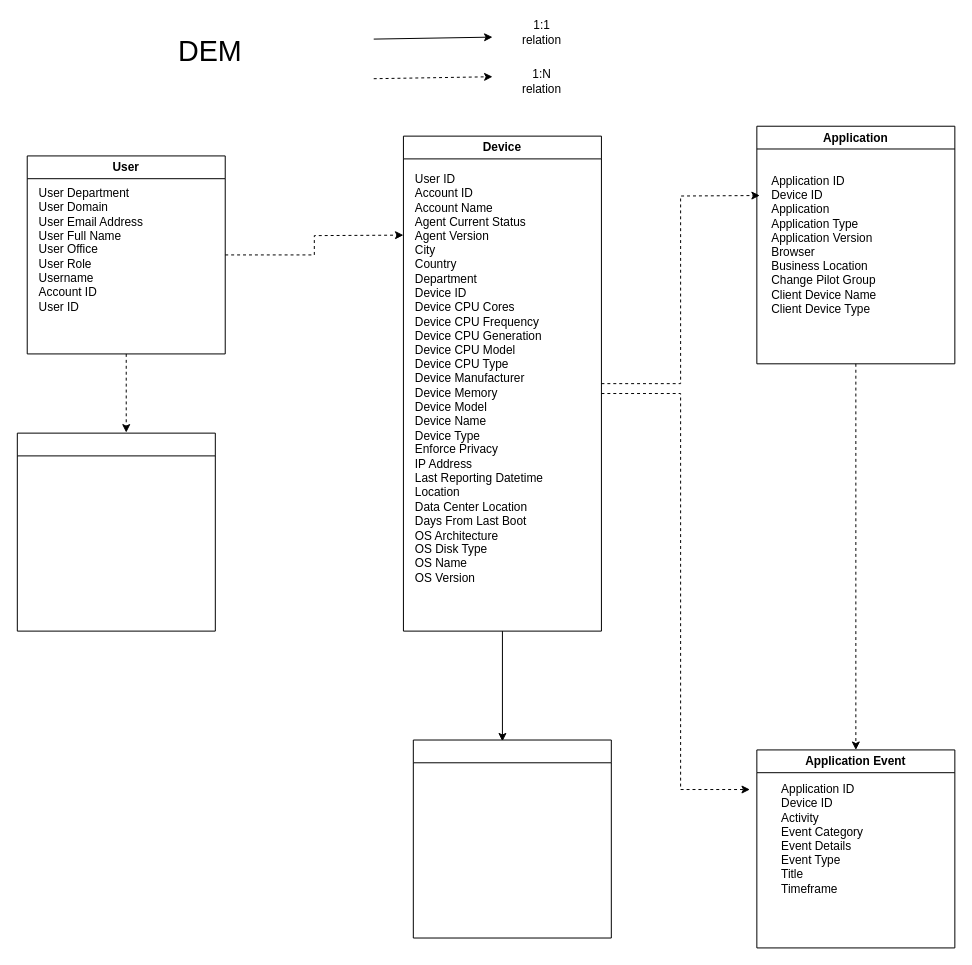
Some shapes in this 972 by 965 pixel diagram are drawn without their labels. The centre of each missing label's shape, as x and y in pixels:
"Activity" belongs at [115,531].
"Reporting Agent" belongs at [511,838].
